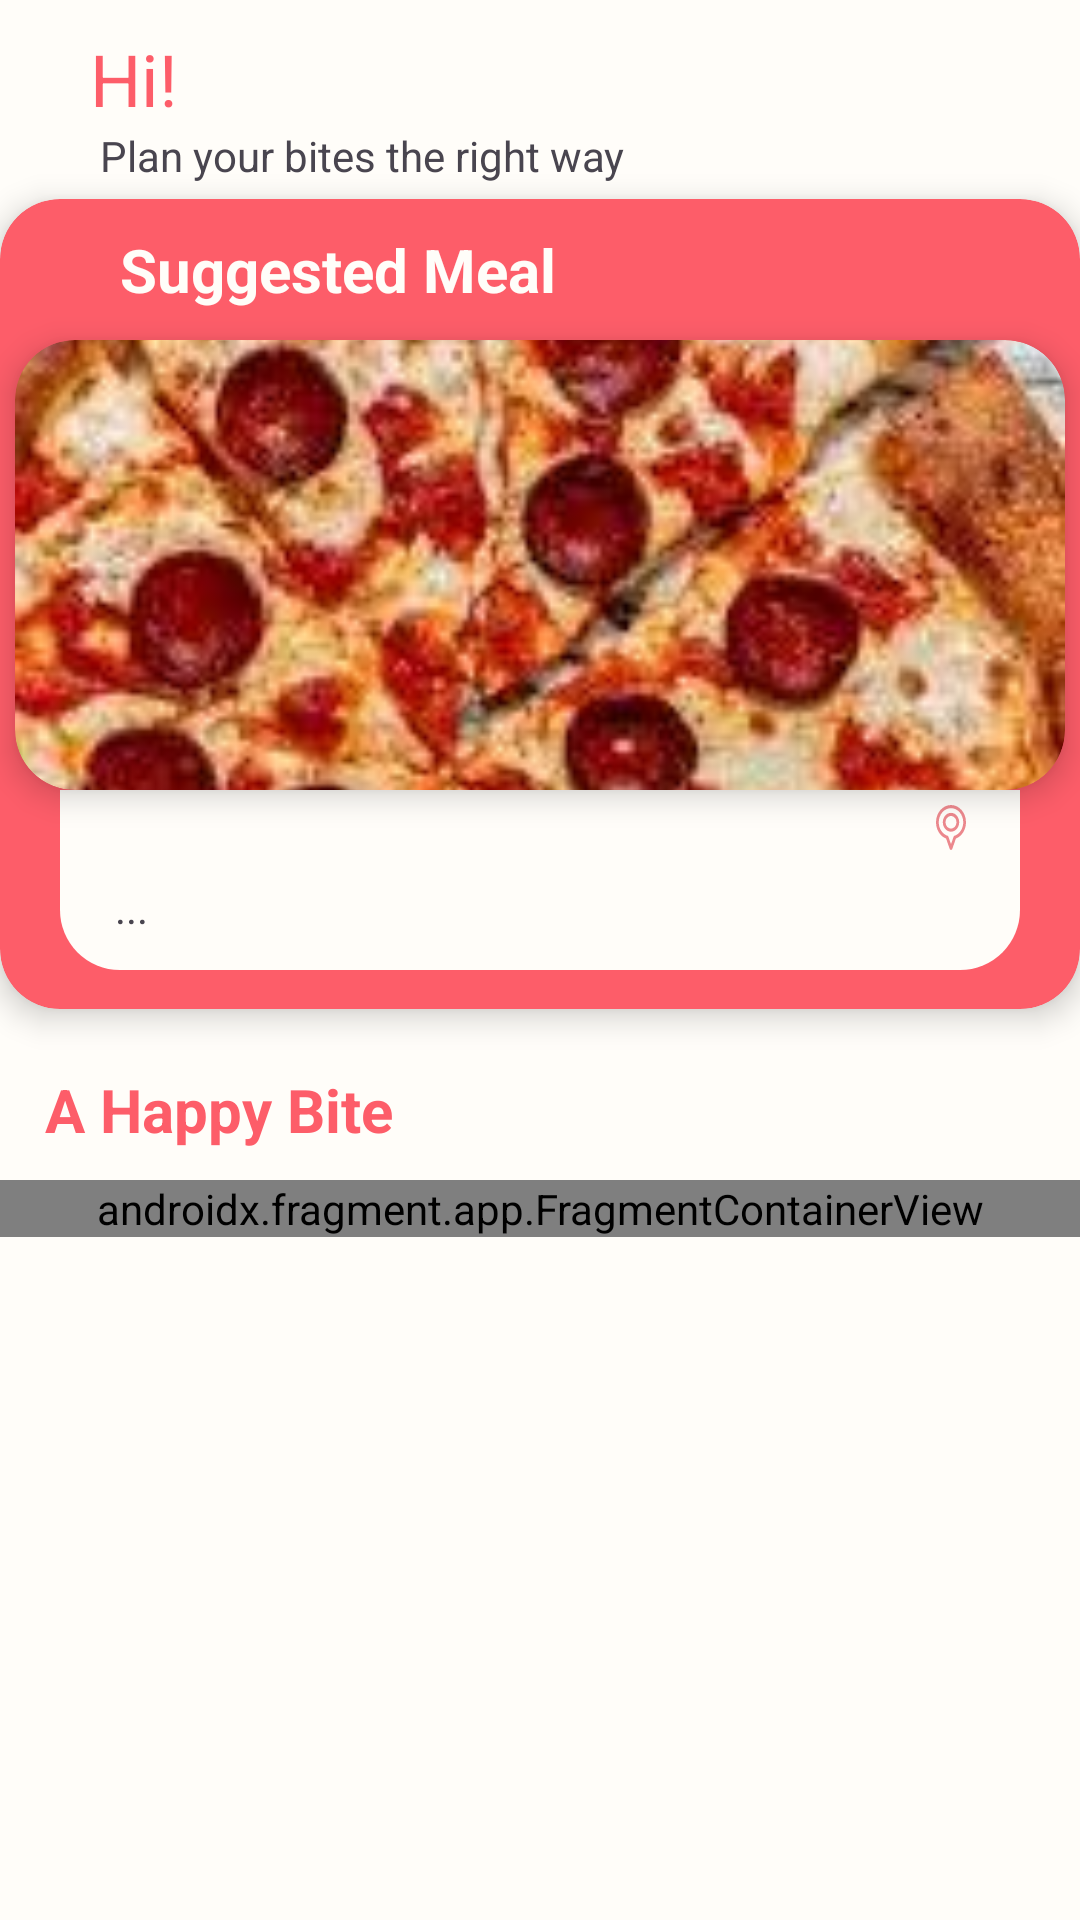

Named icons in this screenshot (1080 × 1920) and their centers, point (x, y):
area: point (951, 827)
